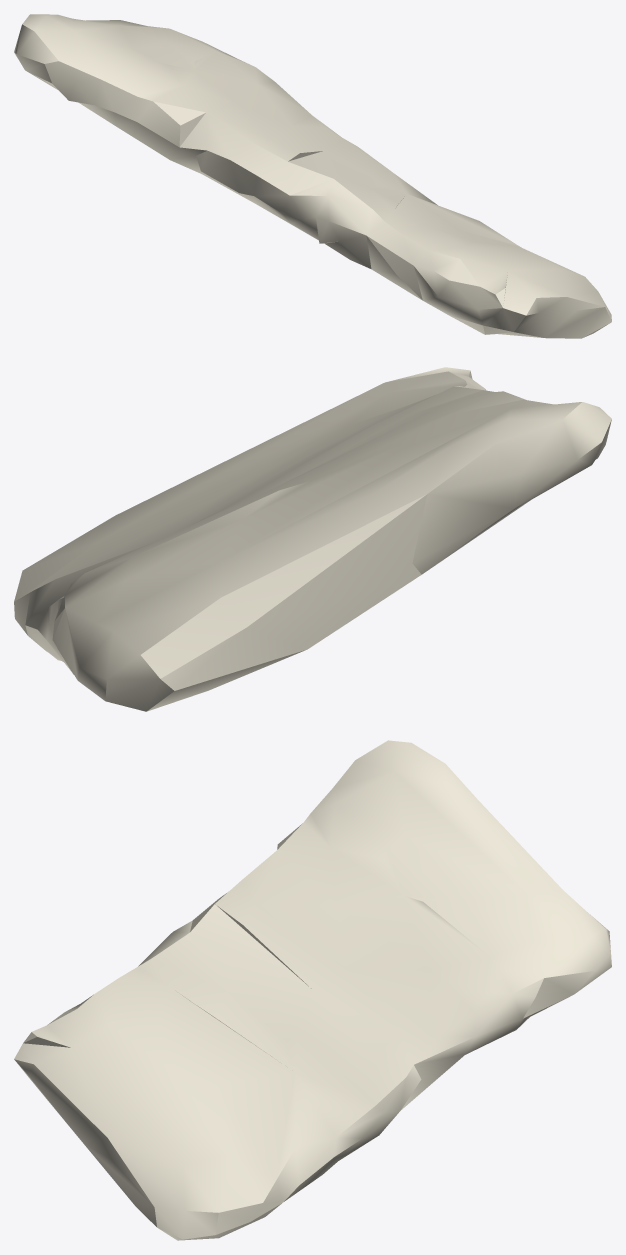
Rendered from fma44220_mm1378.glb.
3 views of the same model, one above another, from view 1: azimuth 30°, elevation 25°; view 2: azimuth 150°, elevation 25°; view 3: azimuth 270°, elevation 25° (orthographic). The views are drawn at different scales.
Visible parts, largest first — view 1: FMA44220_MM1378; view 2: FMA44220_MM1378; view 3: FMA44220_MM1378.
Boxes of the visible parts, <box> form: FMA44220_MM1378: <box>14,14,611,338</box>; FMA44220_MM1378: <box>14,367,611,711</box>; FMA44220_MM1378: <box>14,740,611,1240</box>.
Size of the model in its own units: 0.0114 by 0.00743 by 0.0133.
